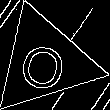O_N: (18, 32, 72, 91)
